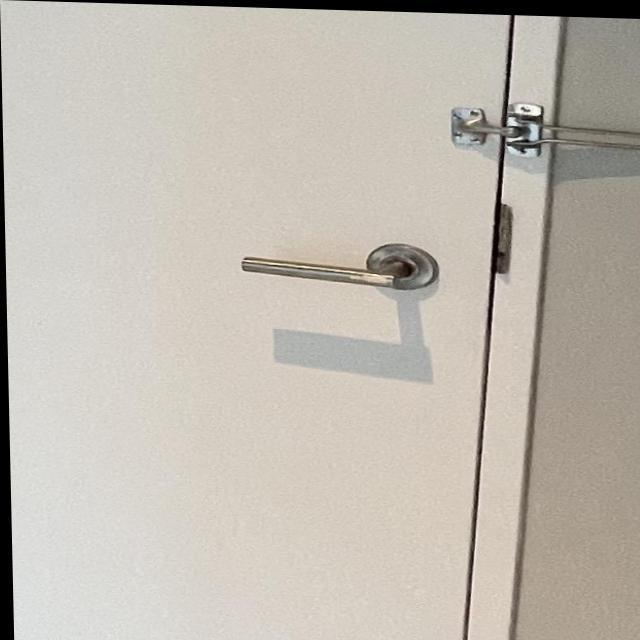door_handle: (223, 227, 457, 306)
